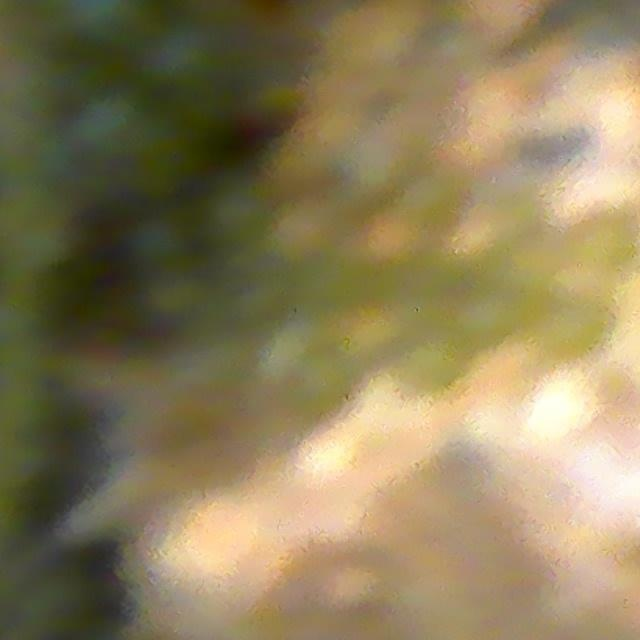SeaGrape: (73, 89, 149, 166), (144, 19, 218, 90), (124, 210, 191, 273), (578, 207, 631, 274), (288, 349, 349, 407), (543, 301, 603, 341), (405, 335, 459, 376)
